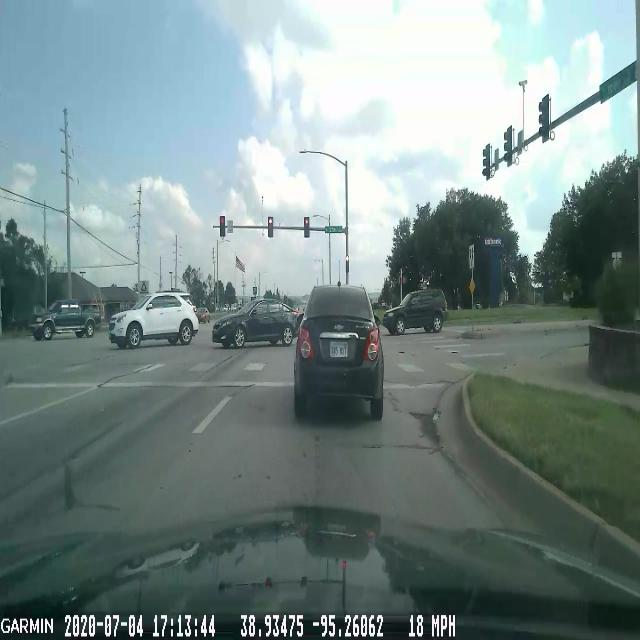Pothole: (408, 402, 449, 456)
